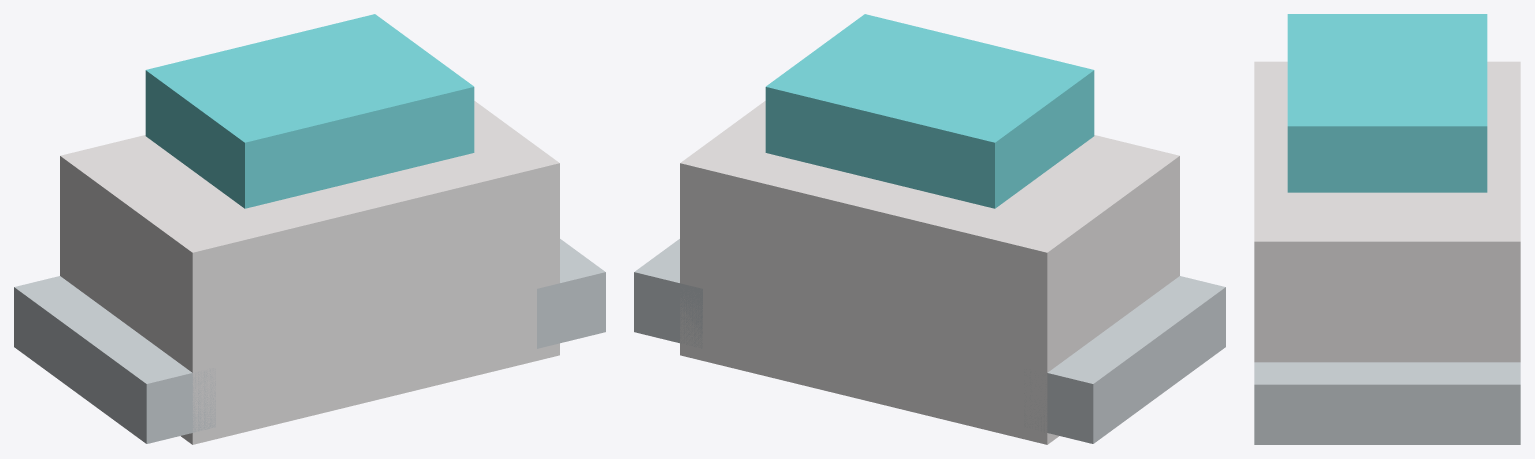
Rendered from 244_L119_LED2.glb.
3 views of the same model, side by side, from view 1: azimuth 30°, elevation 25°; view 2: azimuth 150°, elevation 25°; view 3: azimuth 270°, elevation 25° (orthographic).
Parts seen in each view (by area): view 1: 0000__PSMAT__ceramic_white, 0001__PSMAT__phase_cyan, 0002__PSMAT__tin, 0003__PSMAT__tin; view 2: 0000__PSMAT__ceramic_white, 0001__PSMAT__phase_cyan, 0002__PSMAT__tin, 0003__PSMAT__tin; view 3: 0000__PSMAT__ceramic_white, 0001__PSMAT__phase_cyan, 0003__PSMAT__tin.
Part boxes in pixels (x1,y1,x2,y2): 0000__PSMAT__ceramic_white: (60, 101, 559, 444); 0001__PSMAT__phase_cyan: (145, 14, 474, 208); 0002__PSMAT__tin: (14, 276, 215, 443); 0003__PSMAT__tin: (537, 239, 605, 348); 0000__PSMAT__ceramic_white: (680, 101, 1179, 444); 0001__PSMAT__phase_cyan: (765, 14, 1094, 208); 0002__PSMAT__tin: (1024, 276, 1225, 443); 0003__PSMAT__tin: (634, 239, 702, 348); 0000__PSMAT__ceramic_white: (1254, 61, 1520, 362); 0001__PSMAT__phase_cyan: (1287, 14, 1487, 192); 0003__PSMAT__tin: (1254, 362, 1520, 444).
Size of the model in its own units: 0.004 by 0.00227 by 0.002.
